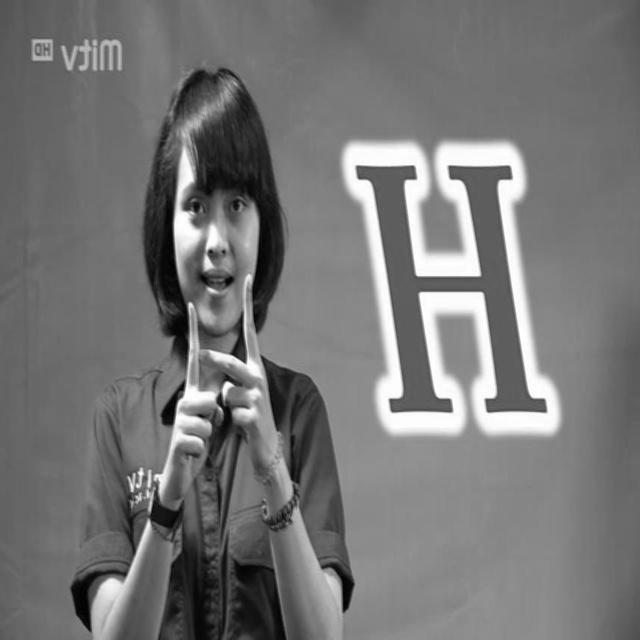H: (176, 268, 274, 446)
